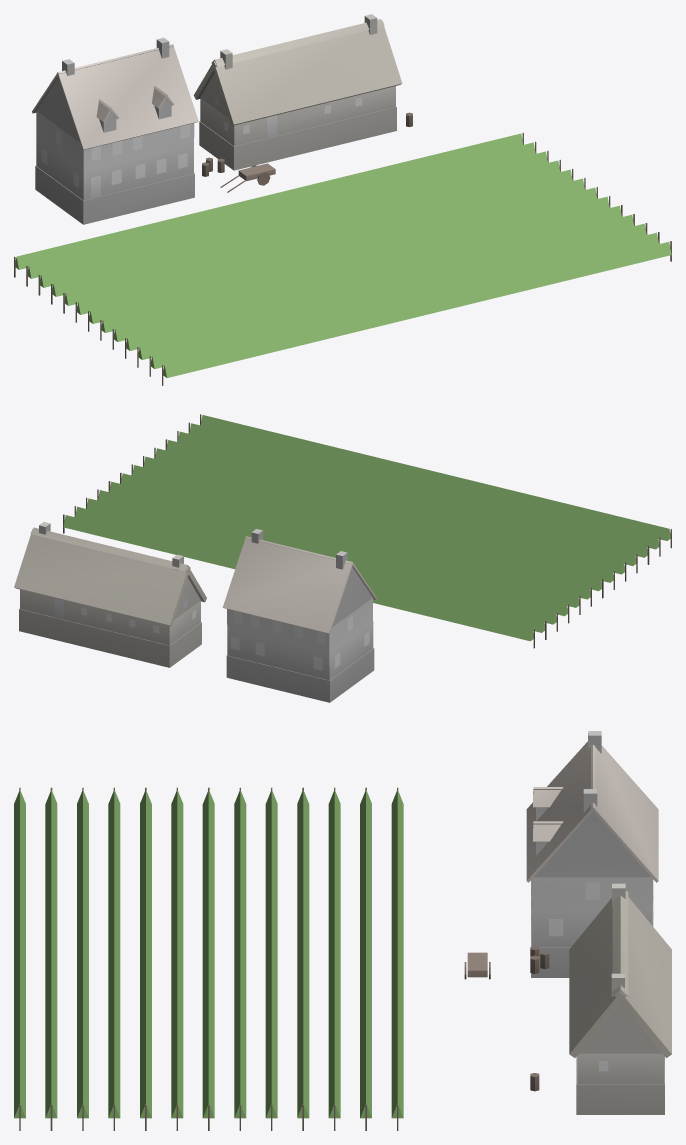
File: vineyard_2.glb
The picture shows the model from 3 angles, top to bottom: view 1: azimuth 30°, elevation 25°; view 2: azimuth 150°, elevation 25°; view 3: azimuth 270°, elevation 25°; orthographic projection. The views are drawn at different scales.
Visible parts, largest first — view 1: vineyard_2; view 2: vineyard_2; view 3: vineyard_2.
Part boxes in pixels (x1,y1,x2,y2): vineyard_2: (14, 14, 671, 385); vineyard_2: (14, 414, 671, 702); vineyard_2: (14, 731, 671, 1130).
Size of the model in its own units: 52.5 by 14 by 46.
